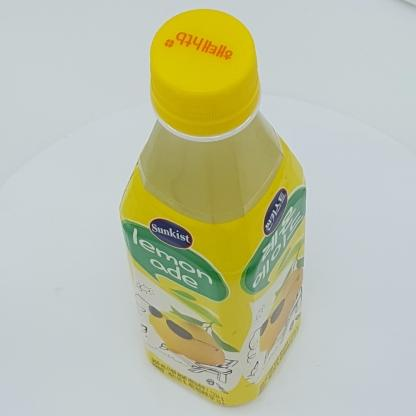-------350ML: (120, 7, 306, 408)
